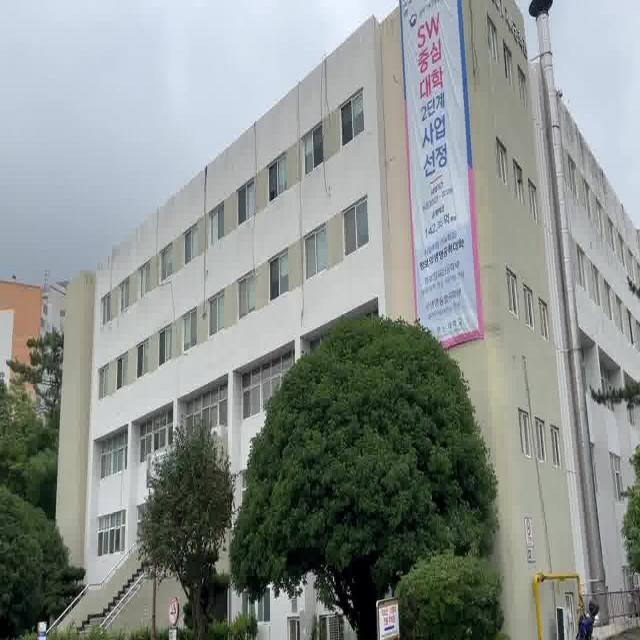building: (57, 64, 404, 328)
